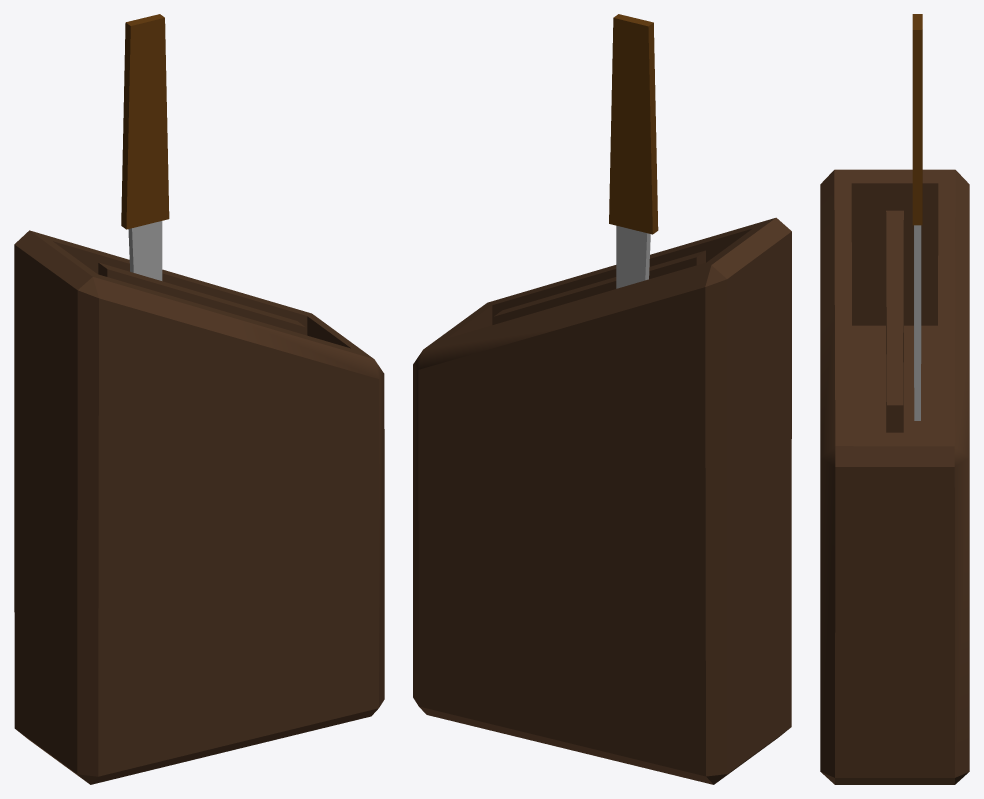
The model's file is Cuchillo-Cuchillero.fbx.
The picture shows the model from 3 angles, left to right: view 1: azimuth 30°, elevation 25°; view 2: azimuth 150°, elevation 25°; view 3: azimuth 270°, elevation 25°; orthographic projection. The views are drawn at different scales.
Parts seen in each view (by area): view 1: CuchilloCubo, Cuchillo1; view 2: CuchilloCubo, Cuchillo1; view 3: CuchilloCubo, Cuchillo1.
Part boxes in pixels (x1=…): CuchilloCubo: x1=14, y1=230, x2=384, y2=784; Cuchillo1: x1=121, y1=14, x2=169, y2=280; CuchilloCubo: x1=413, y1=217, x2=791, y2=784; Cuchillo1: x1=609, y1=14, x2=658, y2=288; CuchilloCubo: x1=820, y1=169, x2=969, y2=784; Cuchillo1: x1=912, y1=14, x2=922, y2=420.
Bounding box in the file's own units: 19.69 × 43.43 × 8.66.
